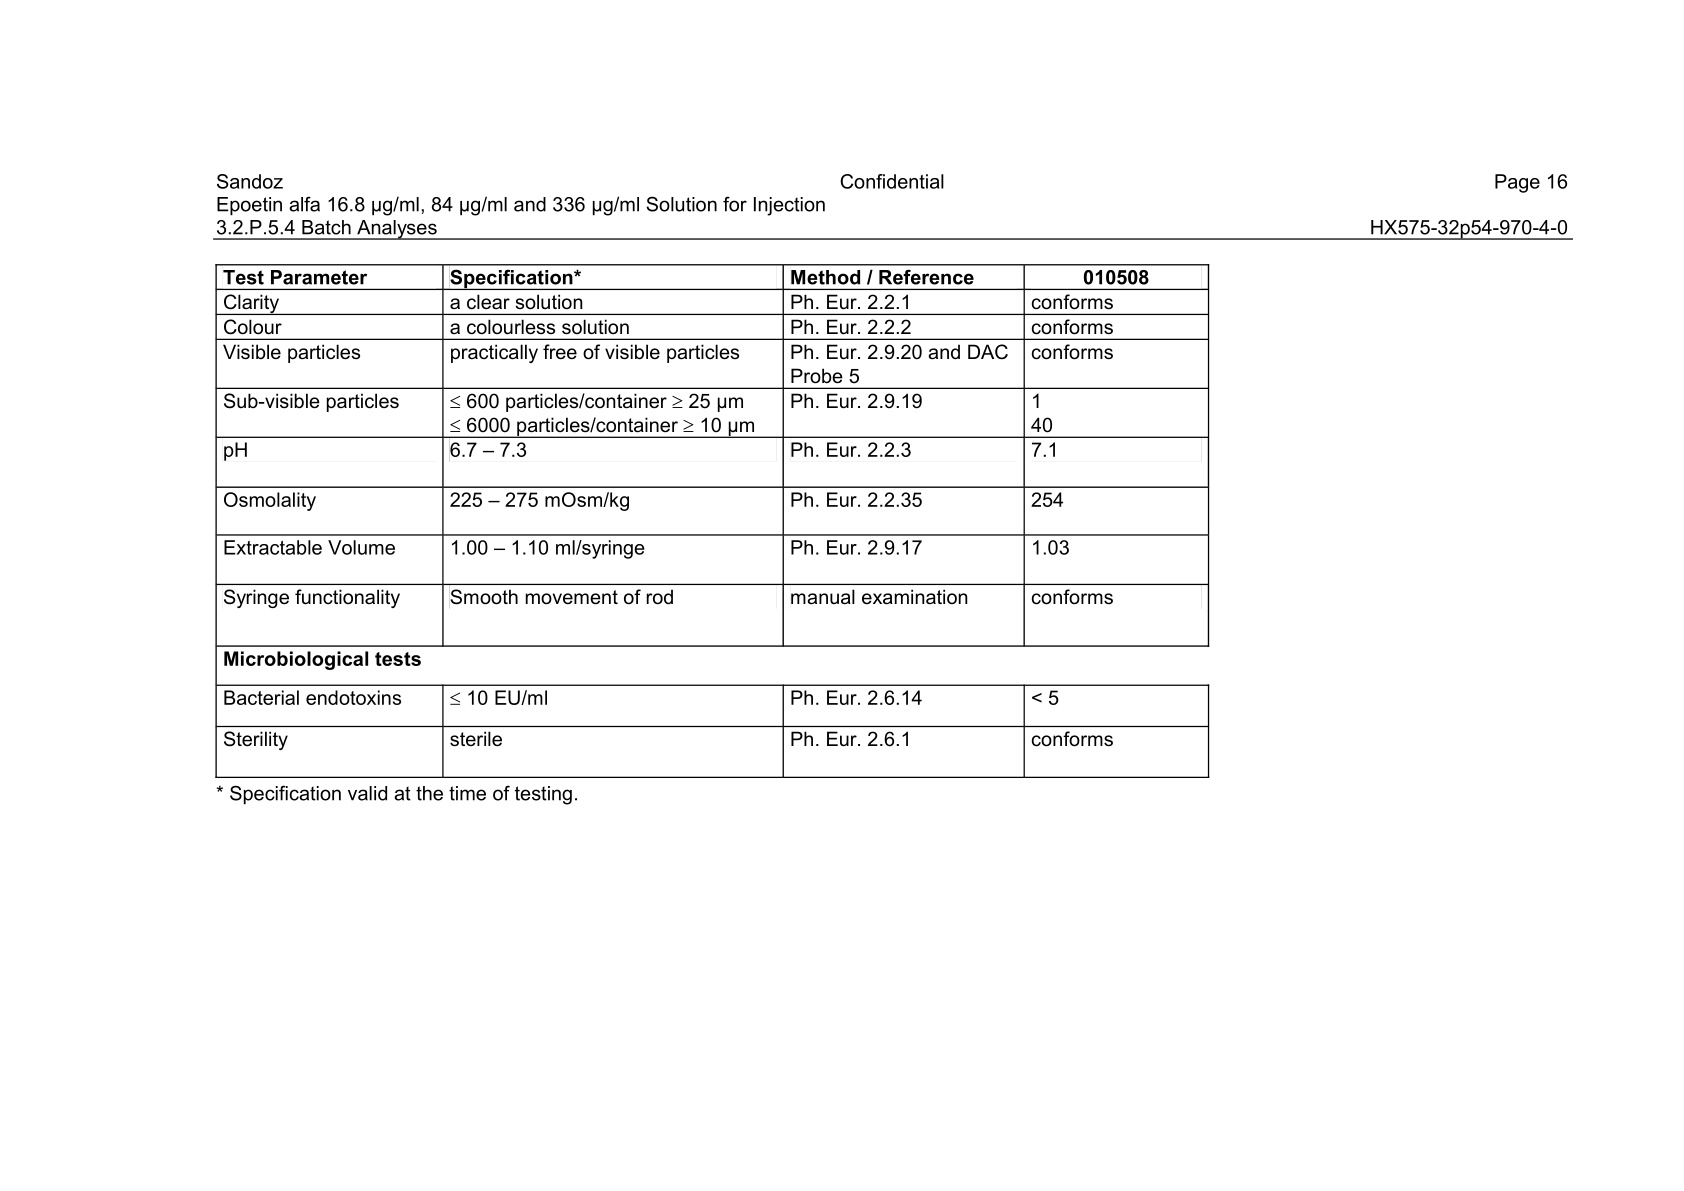merged_cells: (215, 263, 1210, 779)
